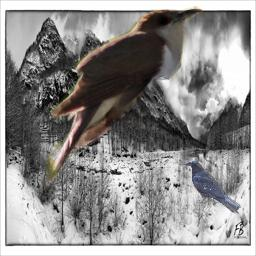Crow: (183, 160, 241, 215)
Cuckoo: (46, 5, 203, 192)
